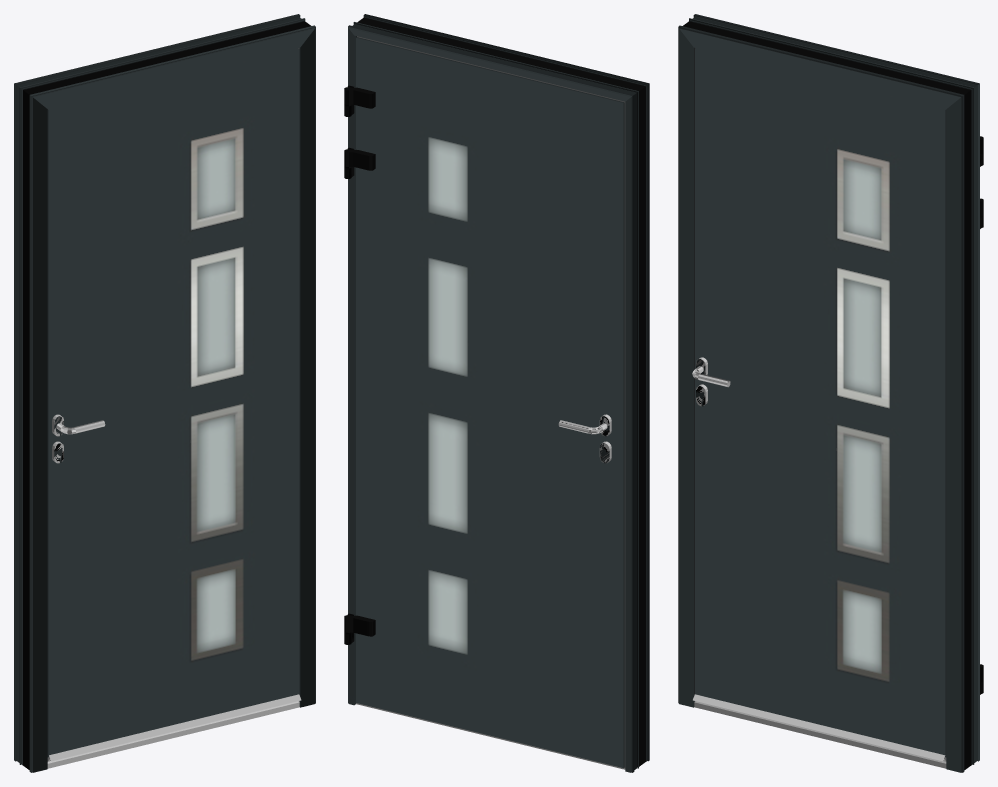
The picture shows the model from 3 angles, left to right: view 1: azimuth 30°, elevation 25°; view 2: azimuth 150°, elevation 25°; view 3: azimuth 330°, elevation 25°; orthographic projection.
Visible parts, largest first — view 1: ouvrant, 105; view 2: ouvrant, 105; view 3: ouvrant, 105.
Boxes of the visible parts, x1,y1,x2,y2 form: ouvrant: (47, 48, 301, 761); 105: (14, 14, 315, 772); ouvrant: (344, 36, 625, 768); 105: (344, 14, 649, 772); ouvrant: (693, 48, 983, 761); 105: (678, 14, 983, 772).
Size of the model in its own units: 96 by 218 by 24.64.
1 material, 1 textured.
